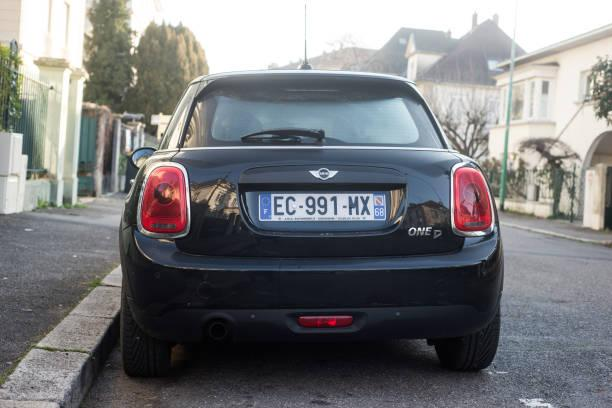mini: (303, 162, 356, 193)
